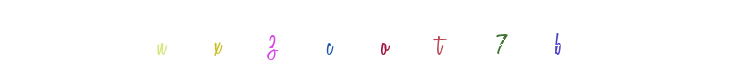7: (437, 0, 517, 80)
B: (461, 0, 541, 80)
C: (330, 0, 410, 80)
N: (139, 0, 219, 80)
O: (372, 0, 452, 80)
T: (409, 0, 489, 80)
X: (177, 0, 257, 80)
Z: (232, 0, 312, 80)
